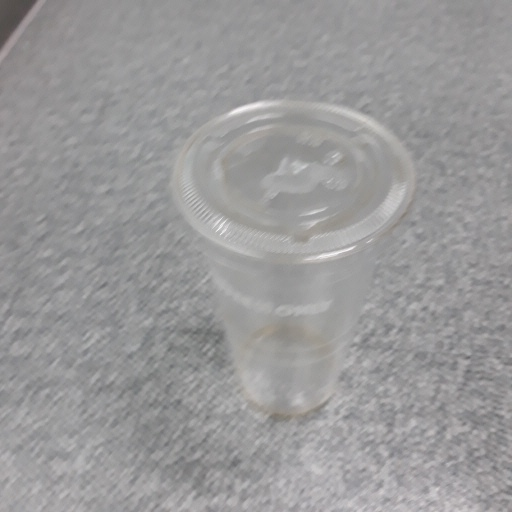Plastic_2: (161, 98, 414, 417)
